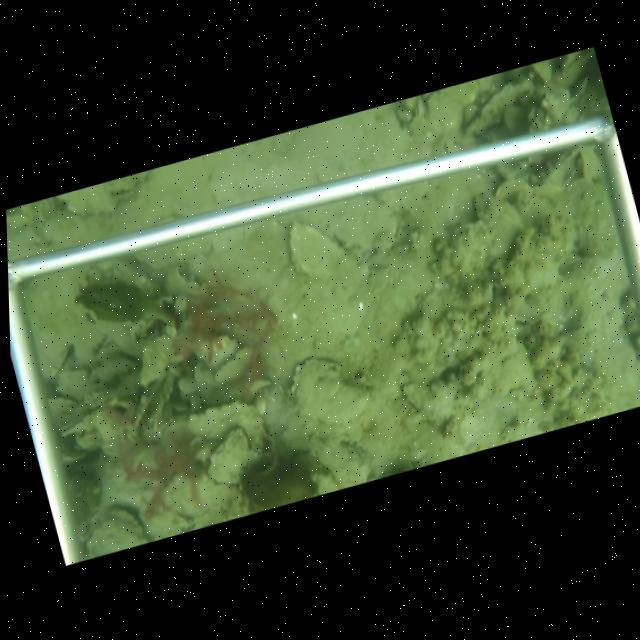Oyster-Closed: (446, 196, 528, 275), (153, 399, 269, 448), (159, 470, 240, 518), (83, 504, 150, 558), (204, 427, 259, 485), (168, 260, 207, 291), (413, 96, 430, 122)
Oyster-Indeterminate: (286, 219, 374, 288), (289, 357, 372, 426), (326, 195, 400, 260), (463, 78, 534, 135)
Oyster-Open: (130, 367, 176, 439), (105, 175, 143, 204)
